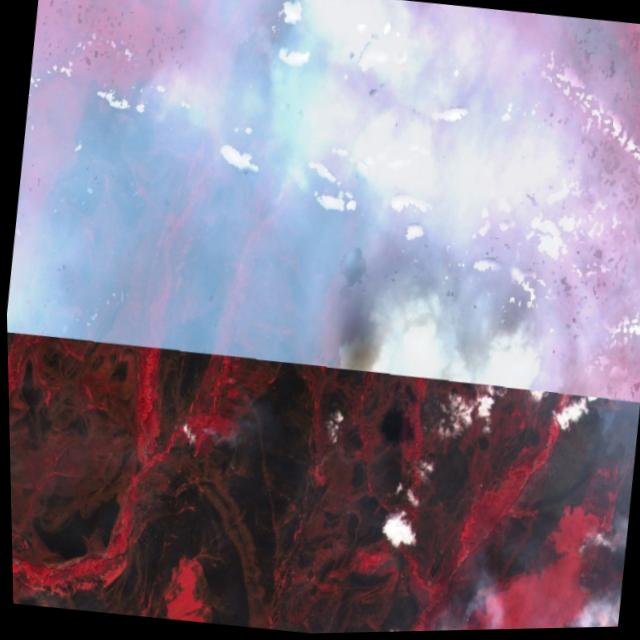fire: (197, 0, 397, 273), (315, 303, 517, 419), (539, 514, 627, 631), (416, 604, 478, 633)
